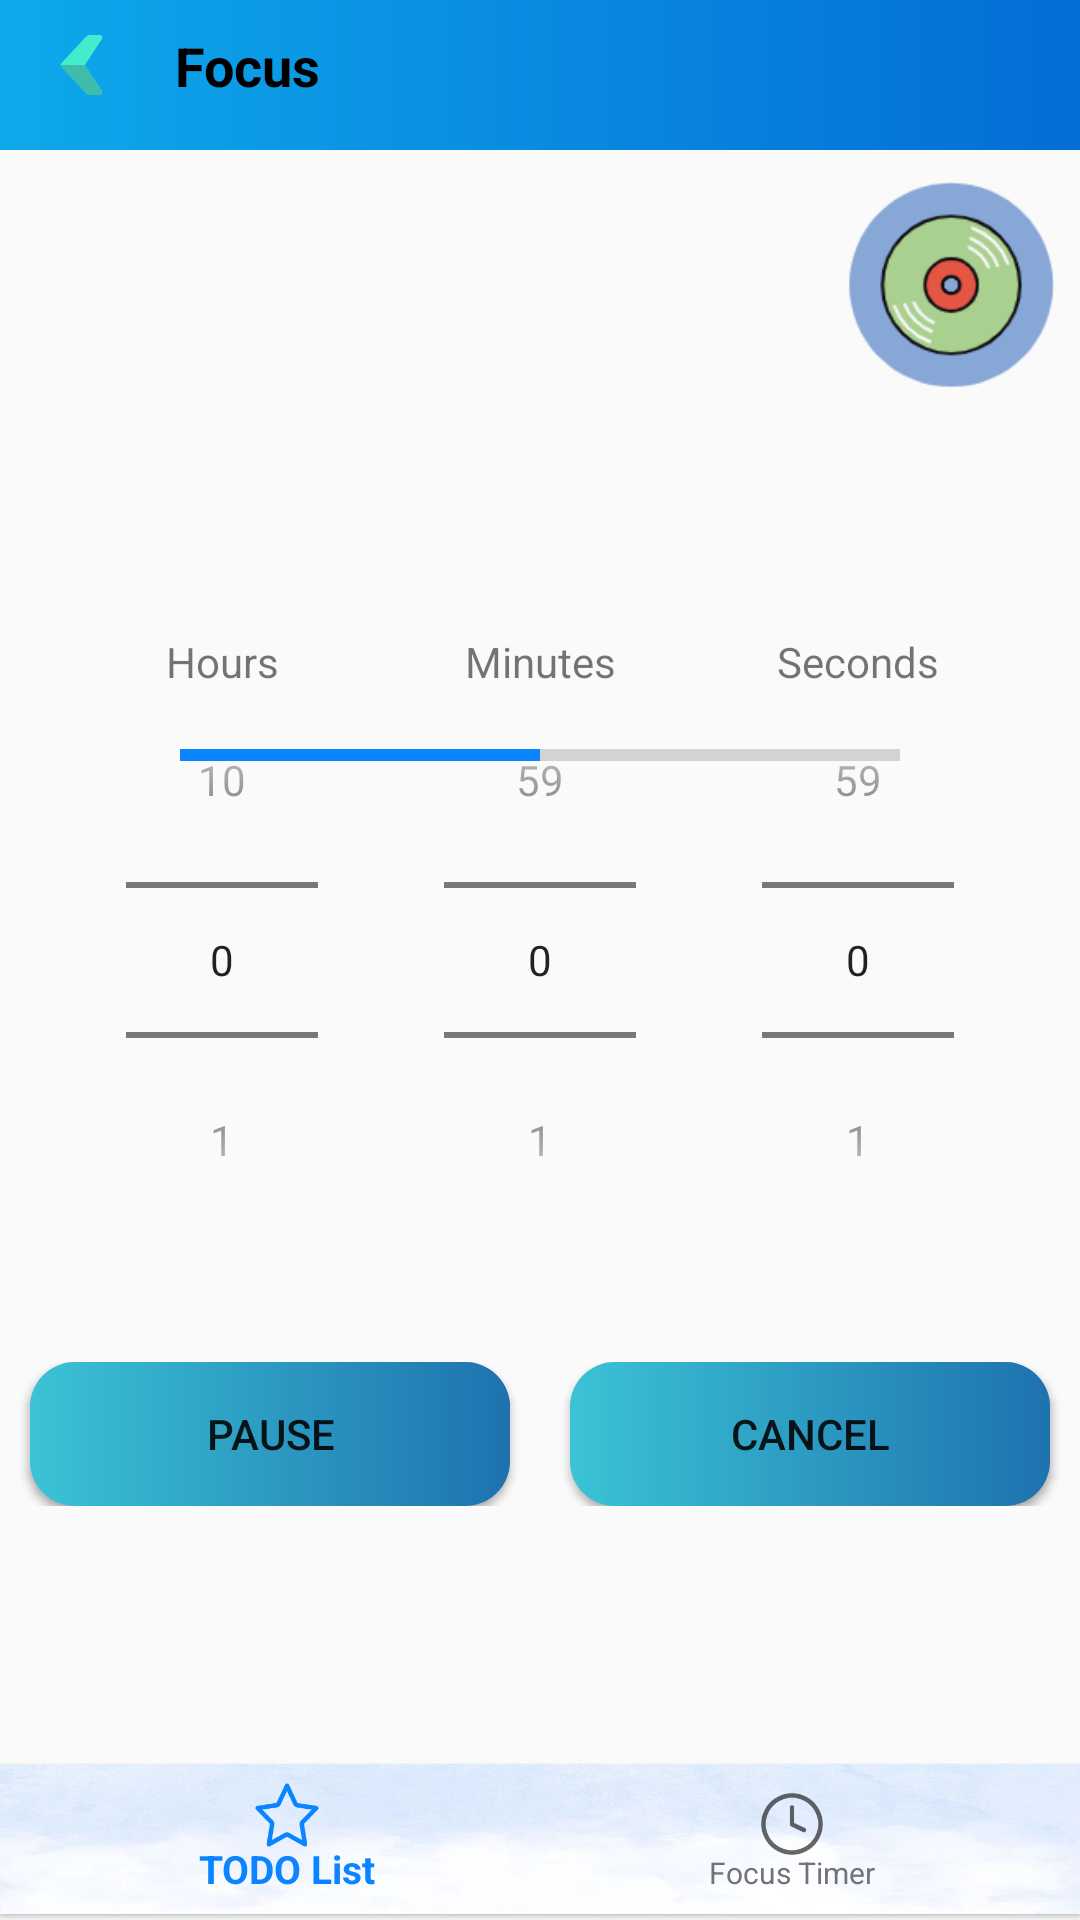

Icons on this 1080*1920 Android screen, each with its box as {"left": x1, "top": y1, "right": x2, "bottom": y2}:
backward: {"left": 61, "top": 35, "right": 103, "bottom": 95}
play music: {"left": 849, "top": 182, "right": 1054, "bottom": 387}
